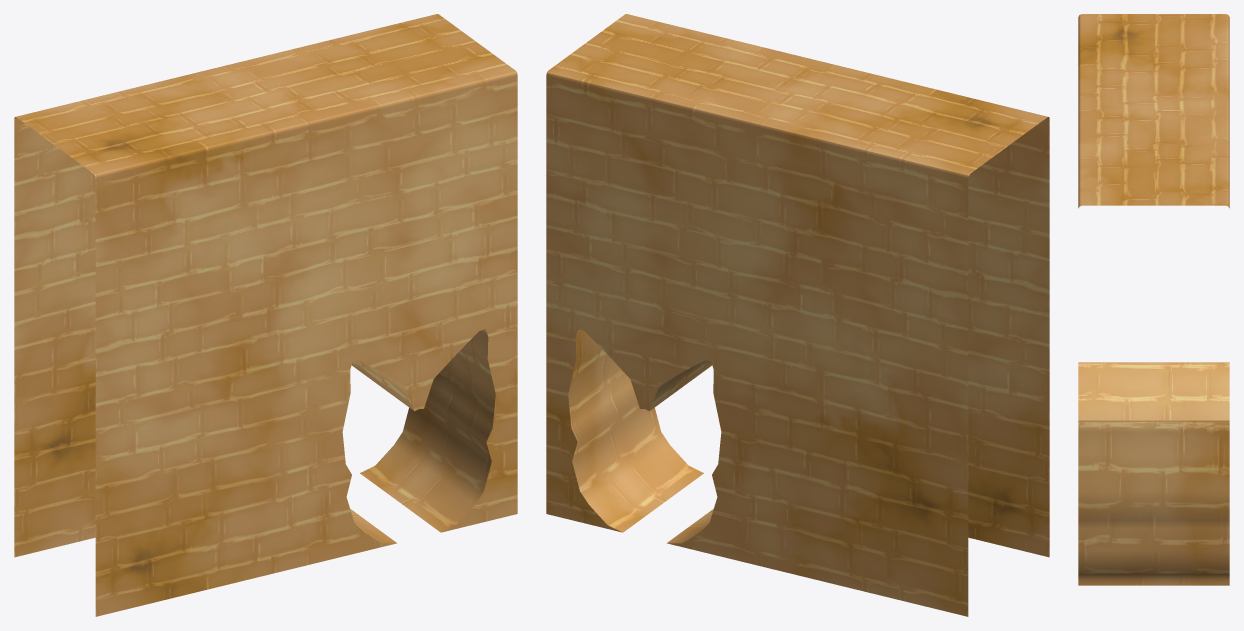
Rendered from SM_Env_Wall_CatHole_Right_B.fbx.
3 renders of one model, left to right at view 1: azimuth 30°, elevation 25°; view 2: azimuth 150°, elevation 25°; view 3: azimuth 270°, elevation 25°, orthographic. The views are drawn at different scales.
Parts seen in each view (by area): view 1: Wall_CatHole_Right; view 2: Wall_CatHole_Right; view 3: Wall_CatHole_Right.
Boxes of the visible parts, x1,y1,x2,y2 form: Wall_CatHole_Right: [14, 14, 517, 616]; Wall_CatHole_Right: [546, 14, 1049, 616]; Wall_CatHole_Right: [1078, 14, 1229, 585].
Bounding box in the file's own units: 300 × 300 × 100.
Materials: 1 (1 with a texture image).
